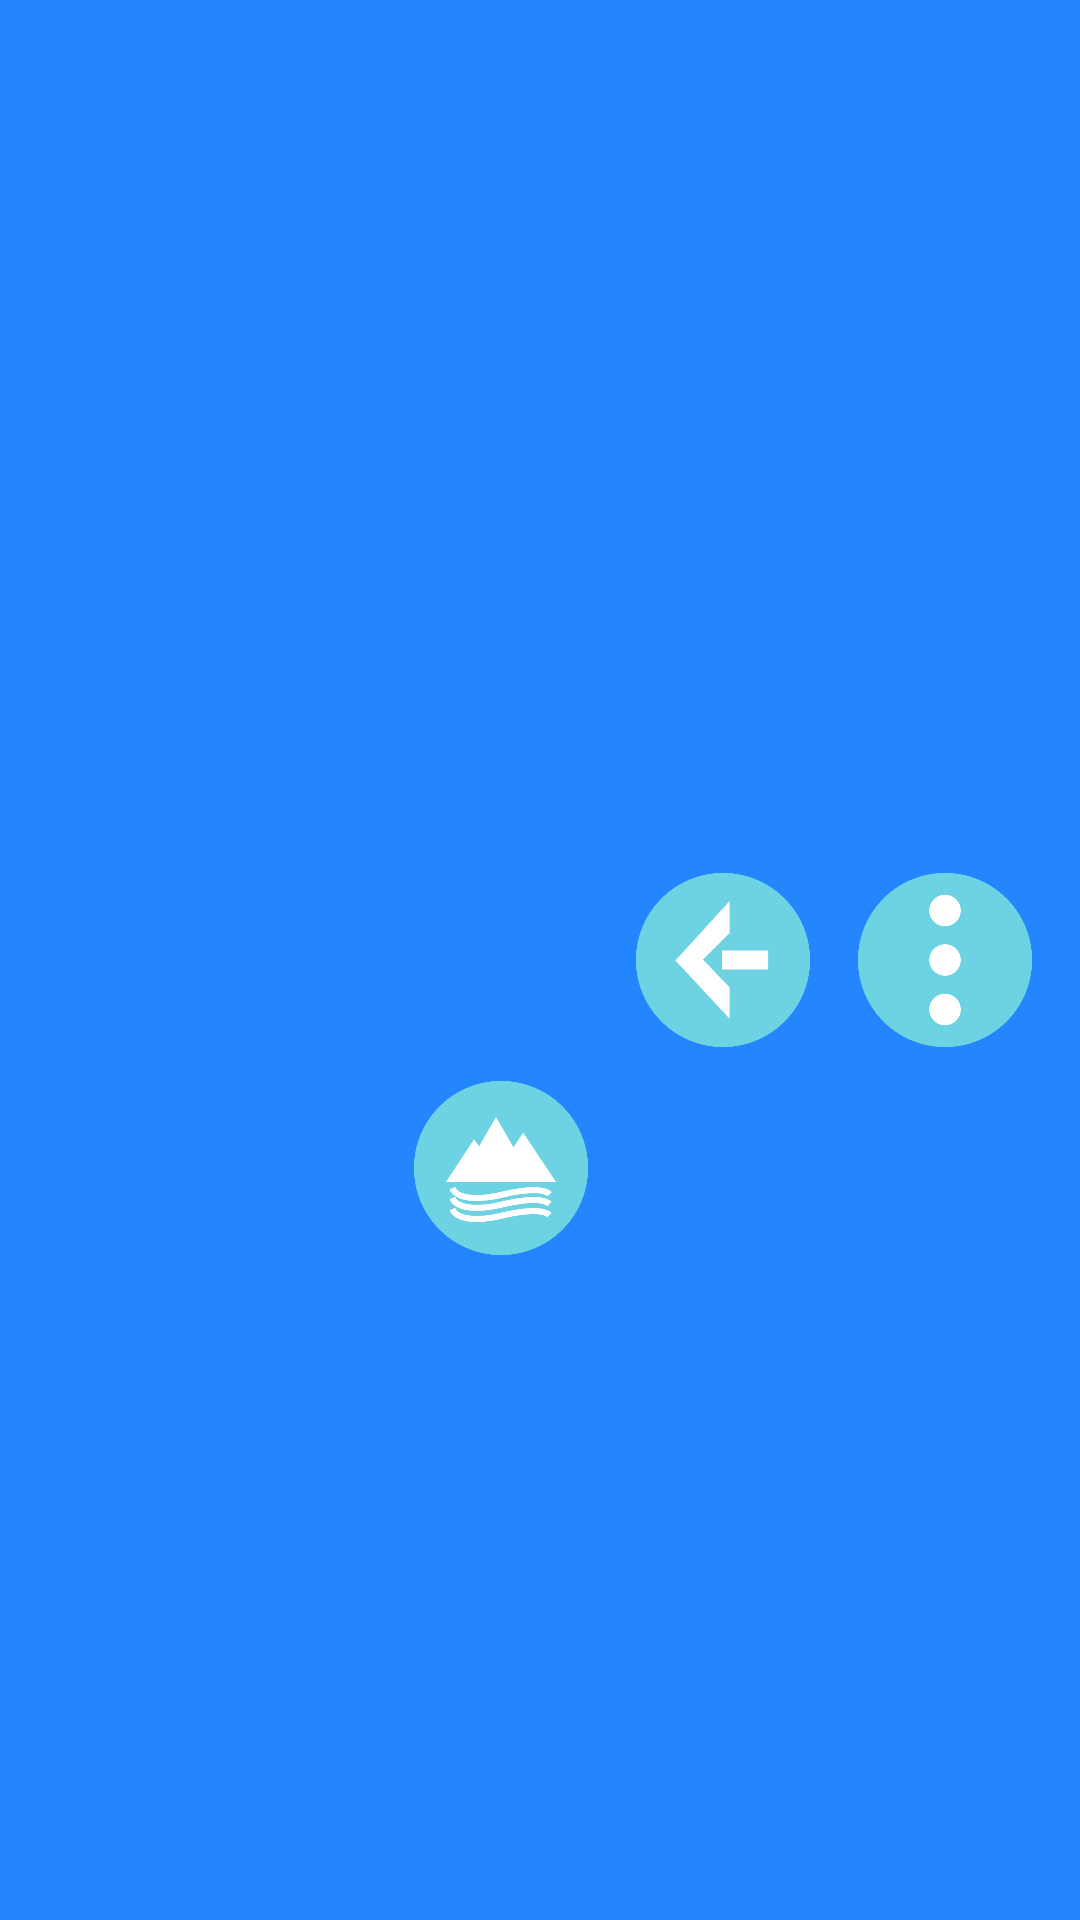

Where icons sit on this 1080w x 1920h app screen, as (left=x1, top=y1, right=x2, bottom=y2):
back: (left=636, top=873, right=810, bottom=1047)
parameters: (left=858, top=873, right=1032, bottom=1047)
